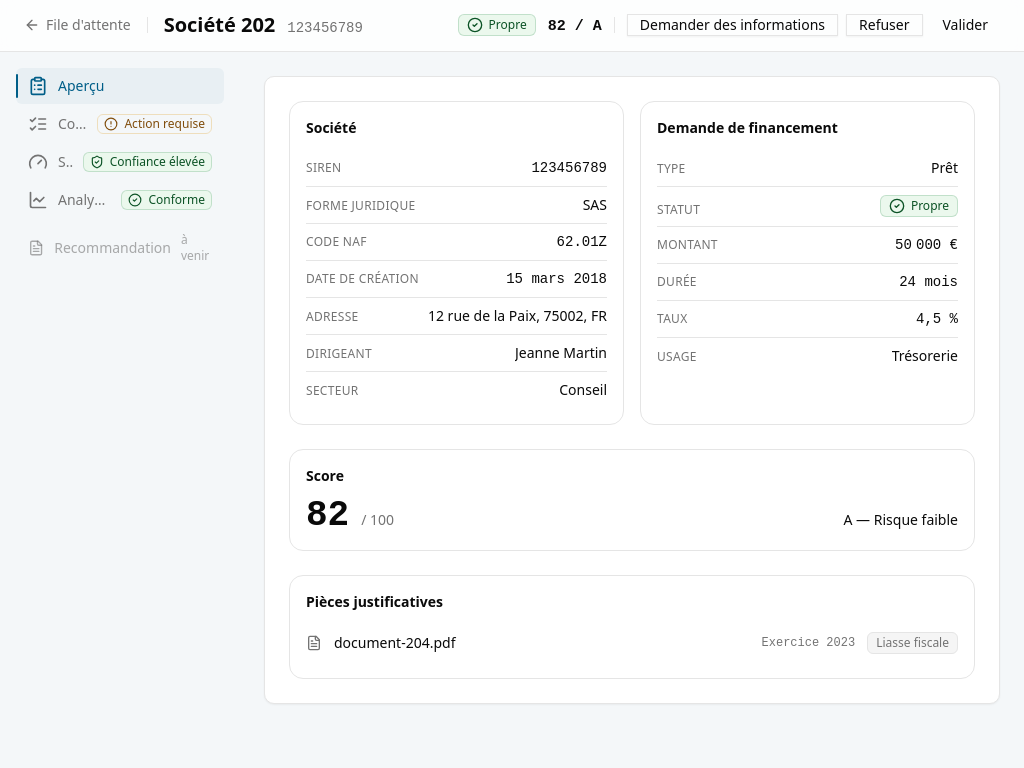
Workspace — Complétude section › renders the completeness gate, sources and hidden account
Click the button "Complétude Action requise" at [120, 124], box x1=16 y1=106 x2=224 y2=142
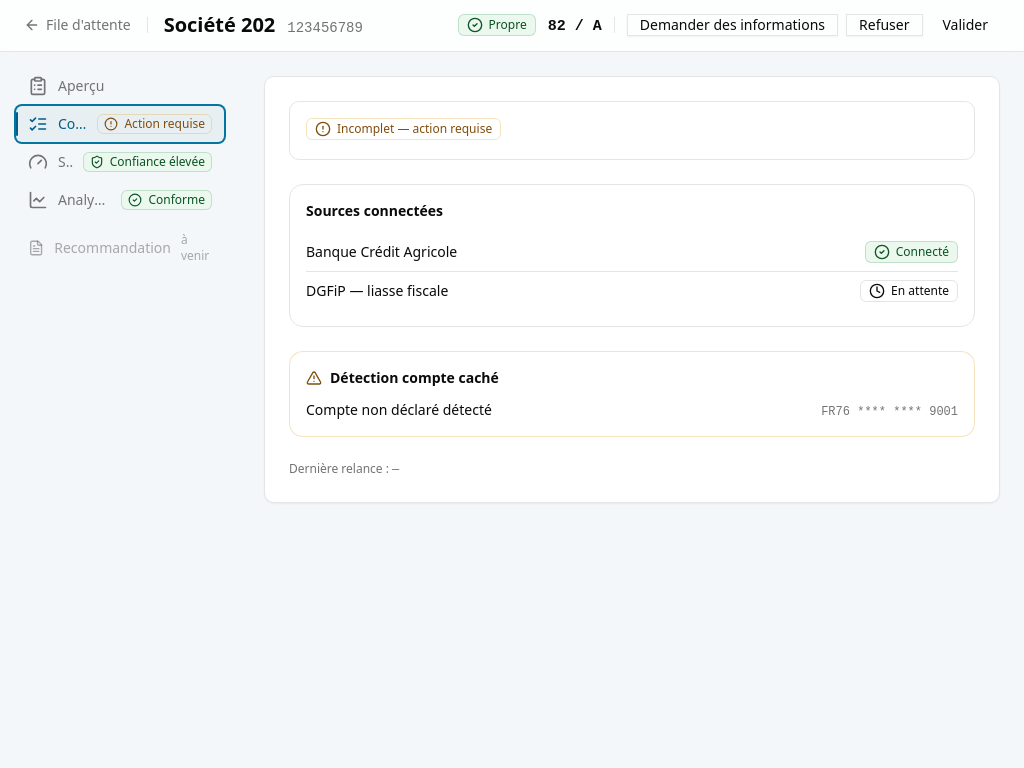
expect the text "Incomplet — action requise" is shown: met, box x1=337 y1=122 x2=492 y2=134
expect the text "Banque Crédit Agricole" is shown: met, box x1=306 y1=242 x2=457 y2=260
expect the text "DGFiP — liasse fiscale" is shown: met, box x1=306 y1=280 x2=448 y2=300
